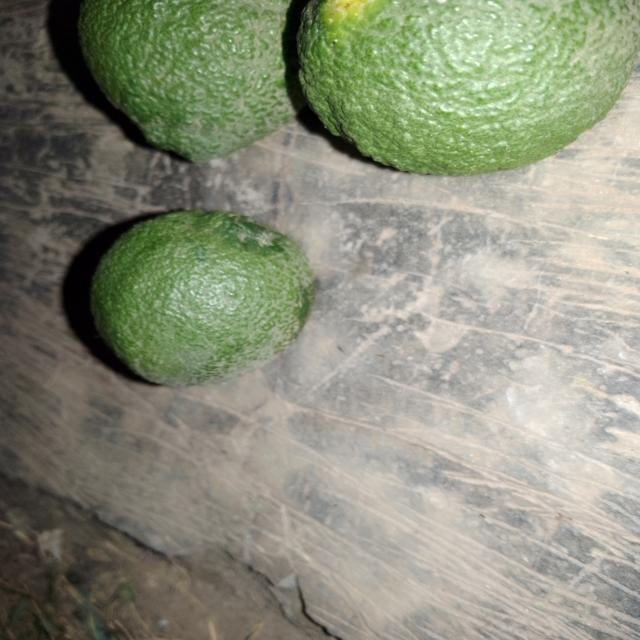Unripe: (279, 0, 640, 178), (76, 200, 353, 403), (57, 1, 322, 172)
